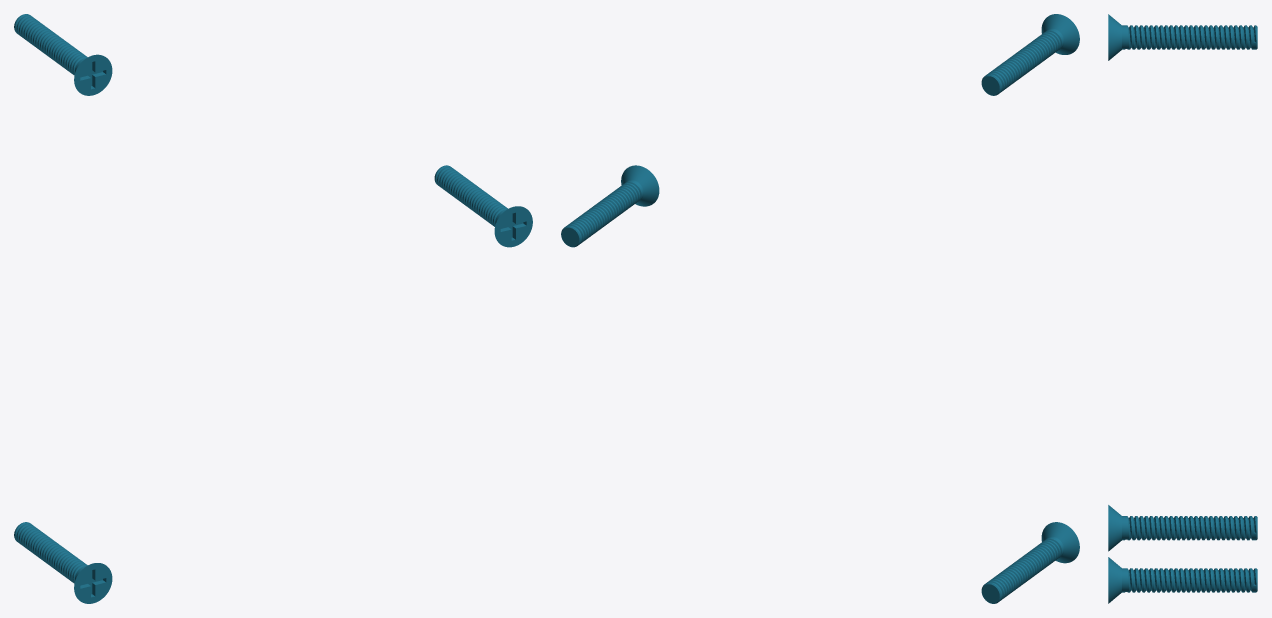
The model's file is Cap_Retainer_Screws.obj.
The picture shows the model from 3 angles, left to right: view 1: azimuth 30°, elevation 25°; view 2: azimuth 150°, elevation 25°; view 3: azimuth 270°, elevation 25°; orthographic projection. The views are drawn at different scales.
Parts seen in each view (by area): view 1: Cap_Retainer_Screws; view 2: Cap_Retainer_Screws; view 3: Cap_Retainer_Screws.
Boxes of the visible parts, bbox=[...] form: Cap_Retainer_Screws: bbox=[14, 14, 532, 603]; Cap_Retainer_Screws: bbox=[561, 14, 1079, 603]; Cap_Retainer_Screws: bbox=[1108, 14, 1257, 603].
Bounding box in the file's own units: 45.5 × 51.95 × 12.
